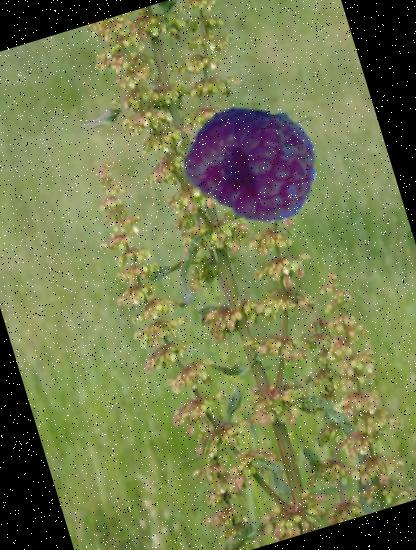Raspberry: (168, 81, 334, 247)
